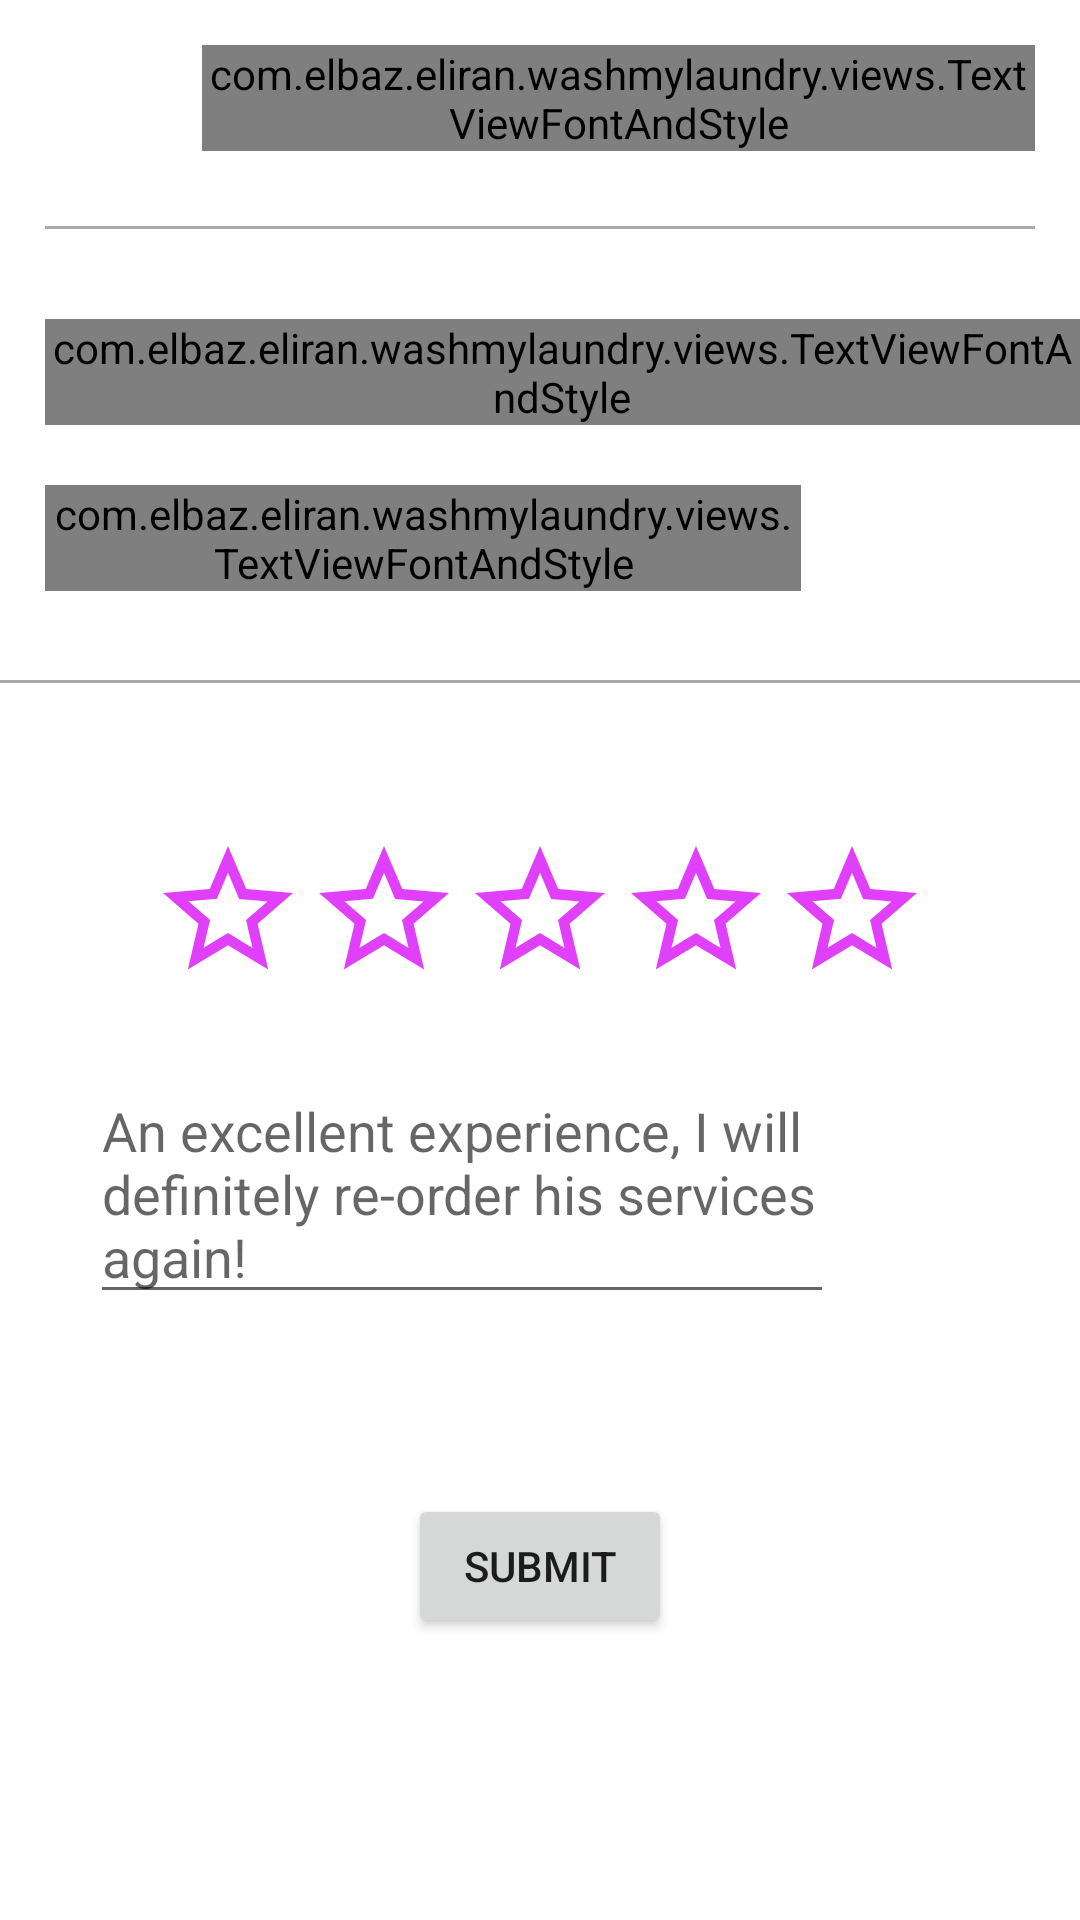

Icon bounding boxes for this 1080 × 1920 phone screenshot, format bbox=(x1, y1, x2, y2):
rating star border: bbox=(163, 846, 293, 969), bbox=(319, 846, 449, 969), bbox=(475, 846, 605, 969), bbox=(631, 846, 761, 969), bbox=(787, 846, 917, 969)
